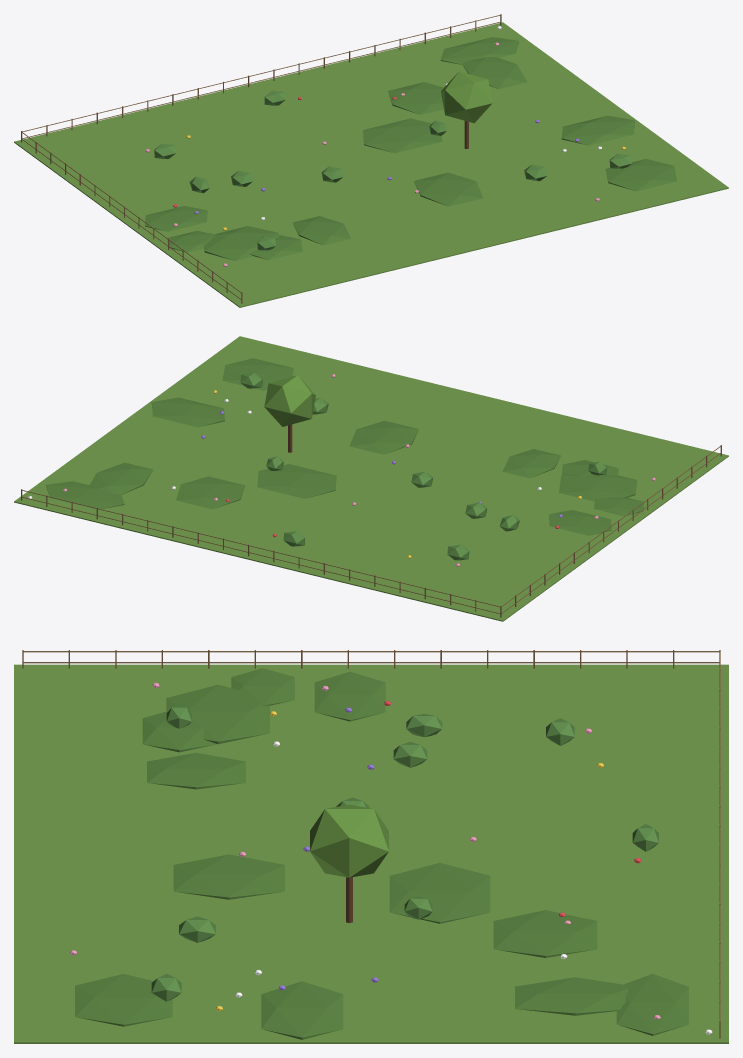
The model's file is Kir_alan_cayir_2_Hafif.fbx.
3 views of the same model, one above another, from view 1: azimuth 30°, elevation 25°; view 2: azimuth 150°, elevation 25°; view 3: azimuth 270°, elevation 25° (orthographic). The views are drawn at different scales.
Parts seen in each view (by area): view 1: Kir_alan_cayir_2_Hafif; view 2: Kir_alan_cayir_2_Hafif; view 3: Kir_alan_cayir_2_Hafif.
Boxes of the visible parts, x1,y1,x2,y2 form: Kir_alan_cayir_2_Hafif: (14,14,728,307); Kir_alan_cayir_2_Hafif: (14,336,728,621); Kir_alan_cayir_2_Hafif: (14,650,728,1043).
Bounding box in the file's own units: 50 × 7.21 × 40.
